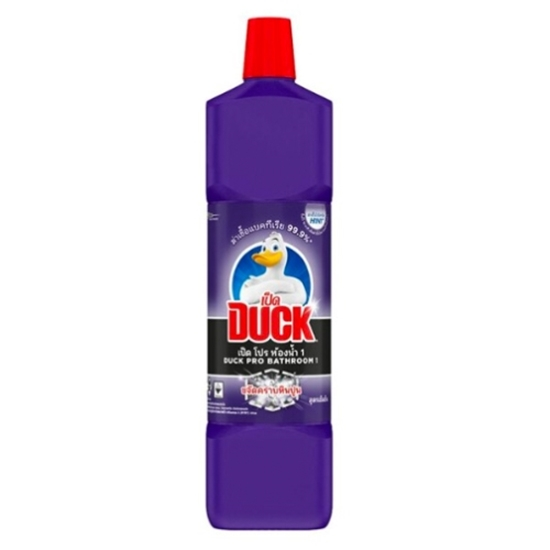Cleaning_solution: (197, 9, 337, 535)
